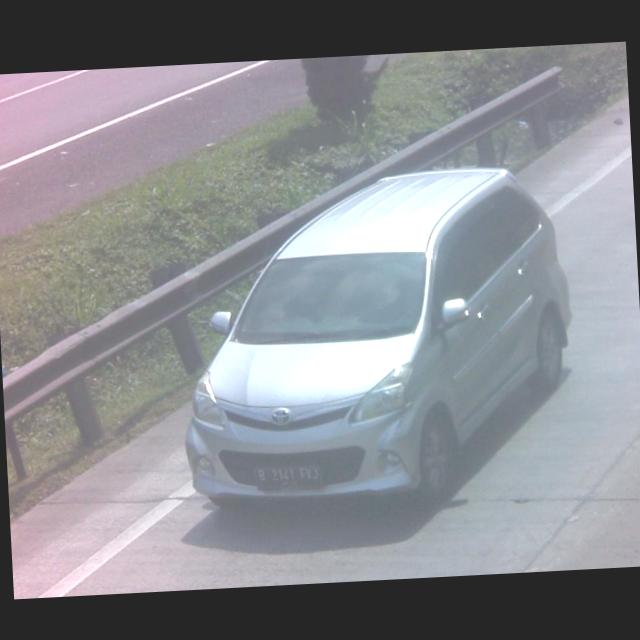plate: (253, 461, 323, 491)
